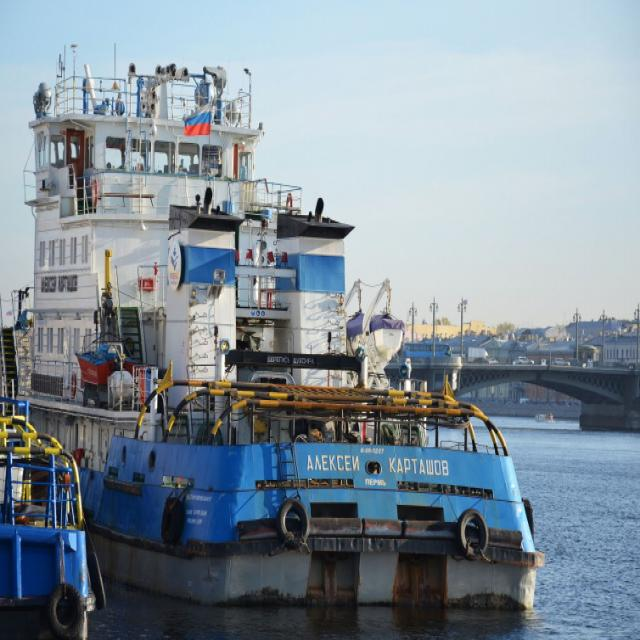tugboat: (1, 39, 550, 629)
